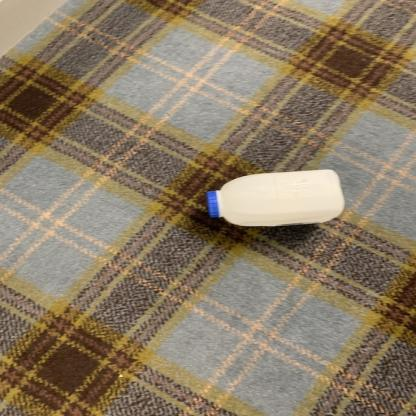trash: (204, 164, 348, 231)
